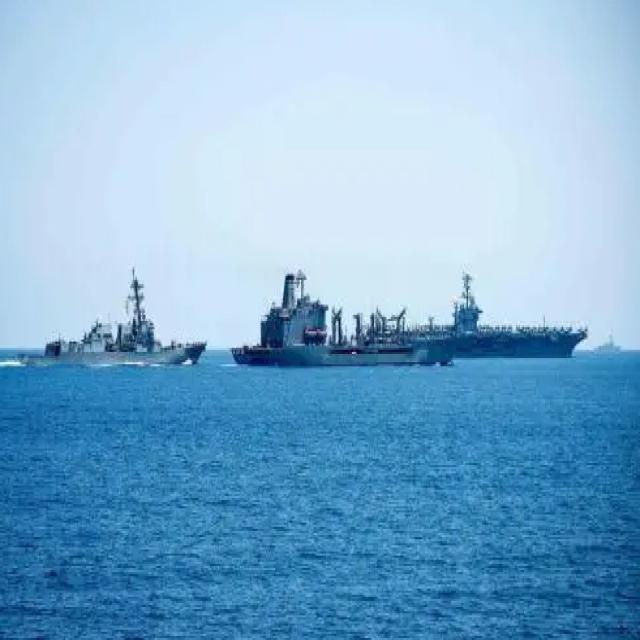navalvessels: (225, 278, 438, 390), (12, 254, 210, 363), (418, 260, 595, 360)
